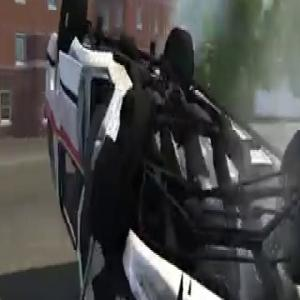critical: (37, 0, 300, 300)
